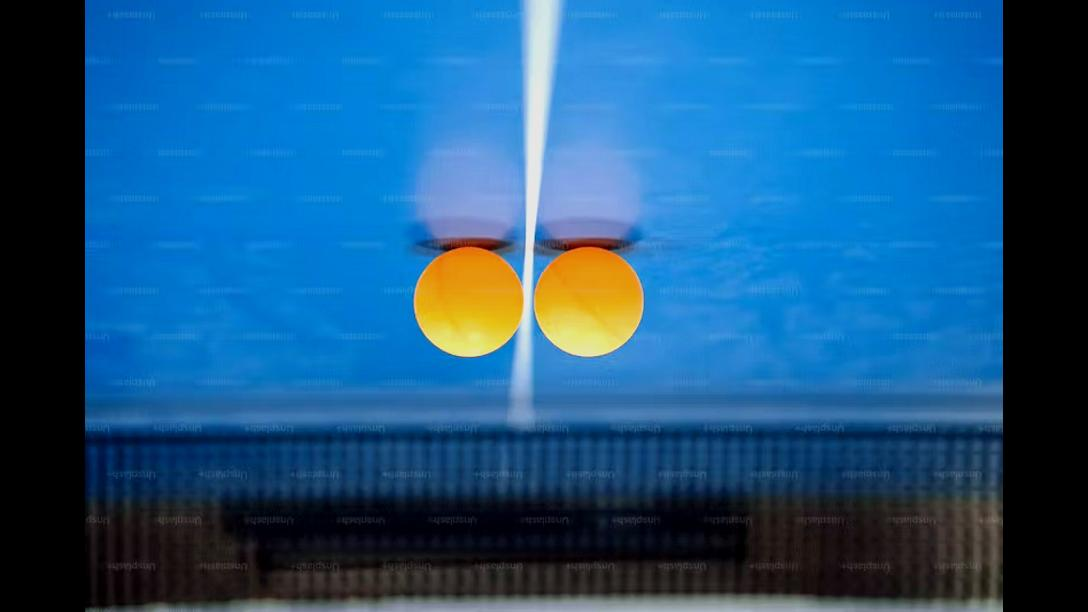Table-Tennis-Ball: (414, 248, 522, 358), (534, 250, 642, 356)
